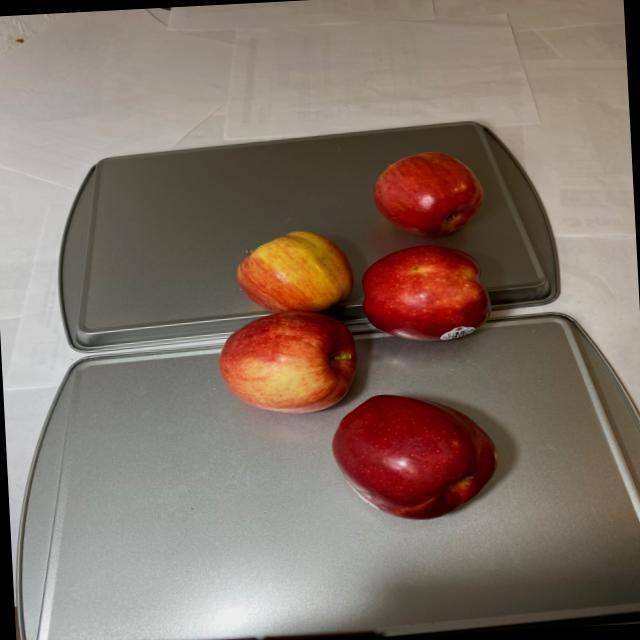apple: (205, 146, 508, 533)
